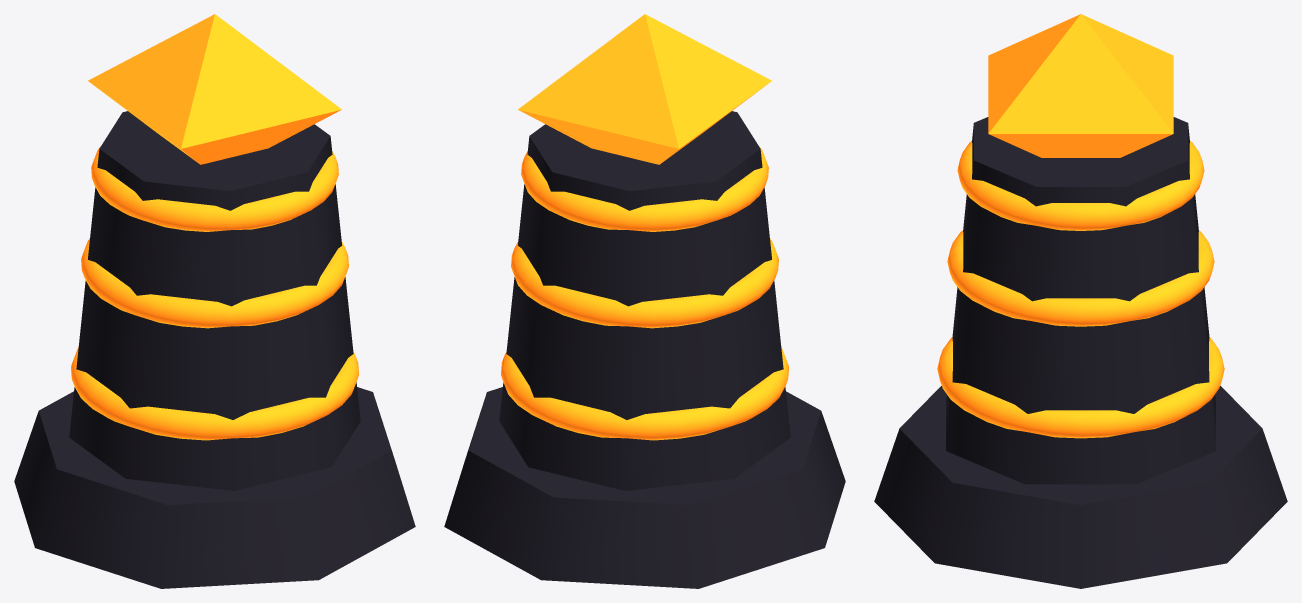
The model's file is totem.glb.
The picture shows the model from 3 angles, left to right: view 1: azimuth 30°, elevation 25°; view 2: azimuth 150°, elevation 25°; view 3: azimuth 270°, elevation 25°; orthographic projection.
Visible parts, largest first — view 1: Cuerpo, Pedestal, Corona, Anillo_solar_1, Anillo_solar_2, Anillo_solar_3; view 2: Cuerpo, Pedestal, Corona, Anillo_solar_1, Anillo_solar_2, Anillo_solar_3; view 3: Cuerpo, Pedestal, Corona, Anillo_solar_1, Anillo_solar_2, Anillo_solar_3.
Boxes of the visible parts, x1=… form: Cuerpo: x1=69, y1=111, x2=360, y2=490; Pedestal: x1=14, y1=387, x2=415, y2=588; Corona: x1=88, y1=14, x2=341, y2=164; Anillo_solar_1: x1=71, y1=347, x2=358, y2=440; Anillo_solar_2: x1=81, y1=238, x2=348, y2=328; Anillo_solar_3: x1=91, y1=147, x2=338, y2=231; Cuerpo: x1=499, y1=111, x2=790, y2=490; Pedestal: x1=444, y1=387, x2=845, y2=588; Corona: x1=518, y1=14, x2=771, y2=164; Anillo_solar_1: x1=501, y1=347, x2=788, y2=440; Anillo_solar_2: x1=511, y1=238, x2=778, y2=328; Anillo_solar_3: x1=521, y1=147, x2=768, y2=231; Cuerpo: x1=946, y1=117, x2=1215, y2=484; Pedestal: x1=874, y1=386, x2=1287, y2=588; Corona: x1=988, y1=14, x2=1173, y2=157; Anillo_solar_1: x1=937, y1=337, x2=1224, y2=438; Anillo_solar_2: x1=947, y1=230, x2=1214, y2=326; Anillo_solar_3: x1=957, y1=141, x2=1204, y2=230.
Size of the model in its own units: 0.164 by 0.2134 by 0.164.
